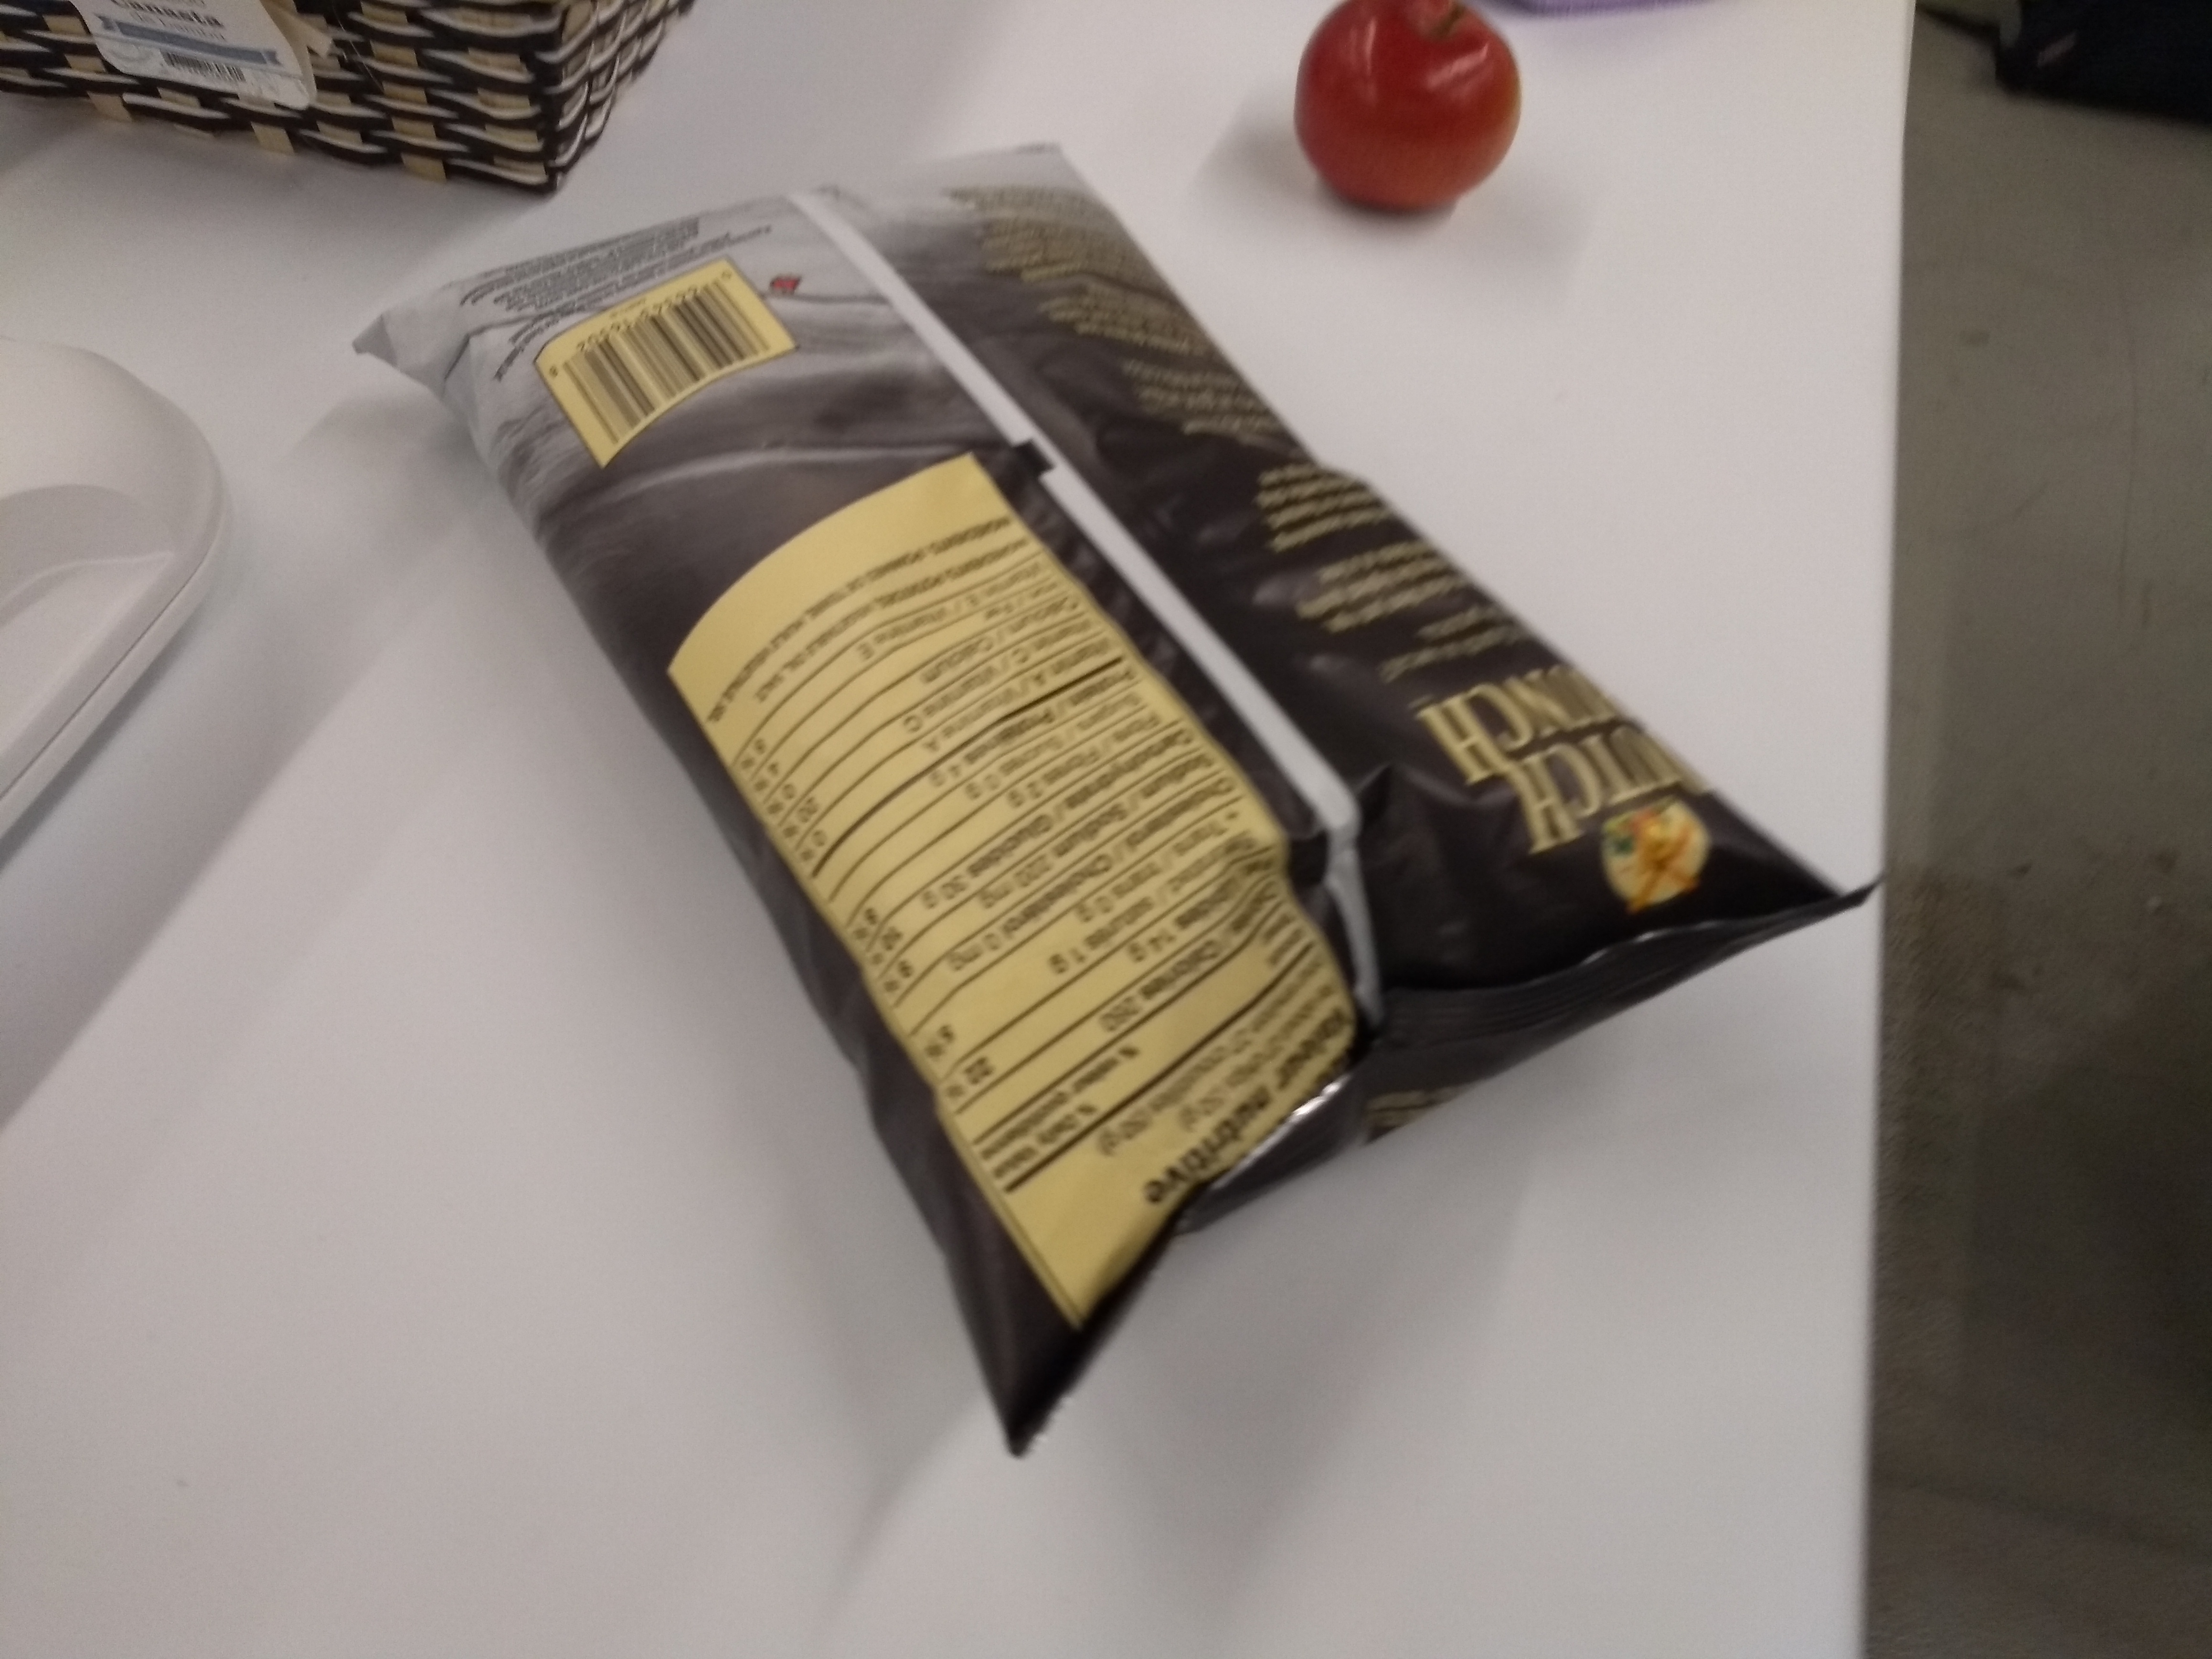apple: (1282, 0, 1543, 223)
potato_chips: (343, 120, 1885, 1459)
